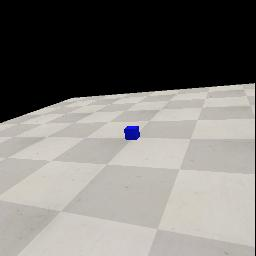box: (124, 126, 140, 140)
